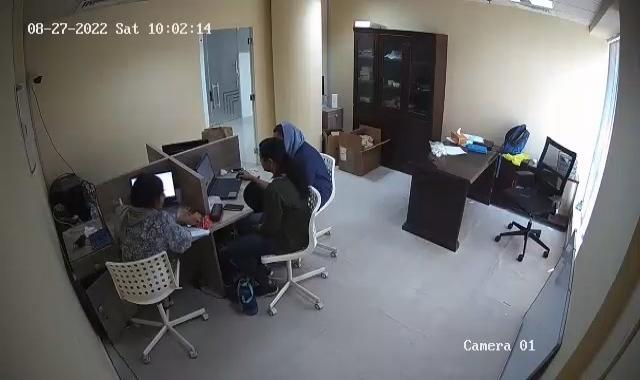no_hairnet: (271, 121, 309, 159), (126, 174, 164, 211), (256, 137, 286, 175)
